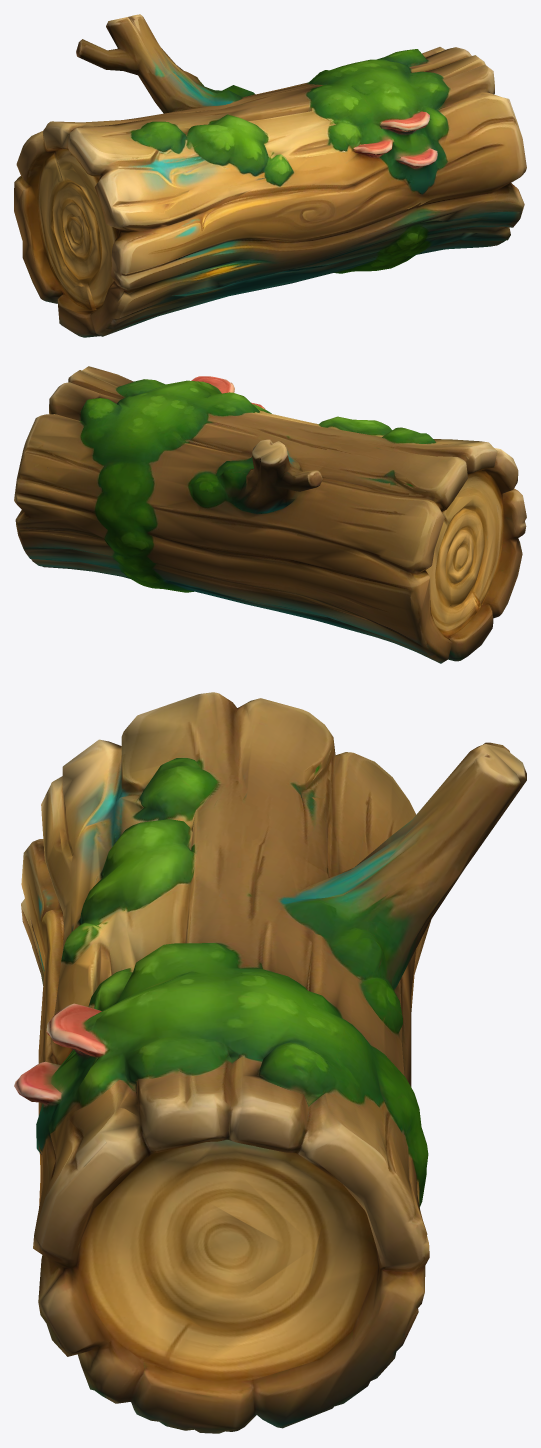
The model's file is fal-driftwood.glb.
The picture shows the model from 3 angles, top to bottom: view 1: azimuth 30°, elevation 25°; view 2: azimuth 150°, elevation 25°; view 3: azimuth 270°, elevation 25°; orthographic projection. The views are drawn at different scales.
Parts seen in each view (by area): view 1: node_0; view 2: node_0; view 3: node_0.
Boxes of the visible parts, x1=… form: node_0: x1=14, y1=14, x2=526, y2=337; node_0: x1=14, y1=366, x2=526, y2=663; node_0: x1=14, y1=692, x2=526, y2=1433.
Size of the model in its own units: 1.81 by 1 by 1.06.
Materials: 1 (1 with a texture image).
